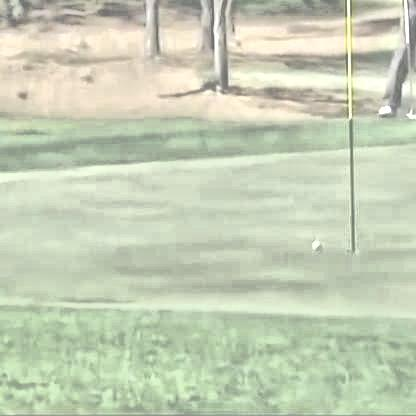golfball: (310, 237, 317, 247)
